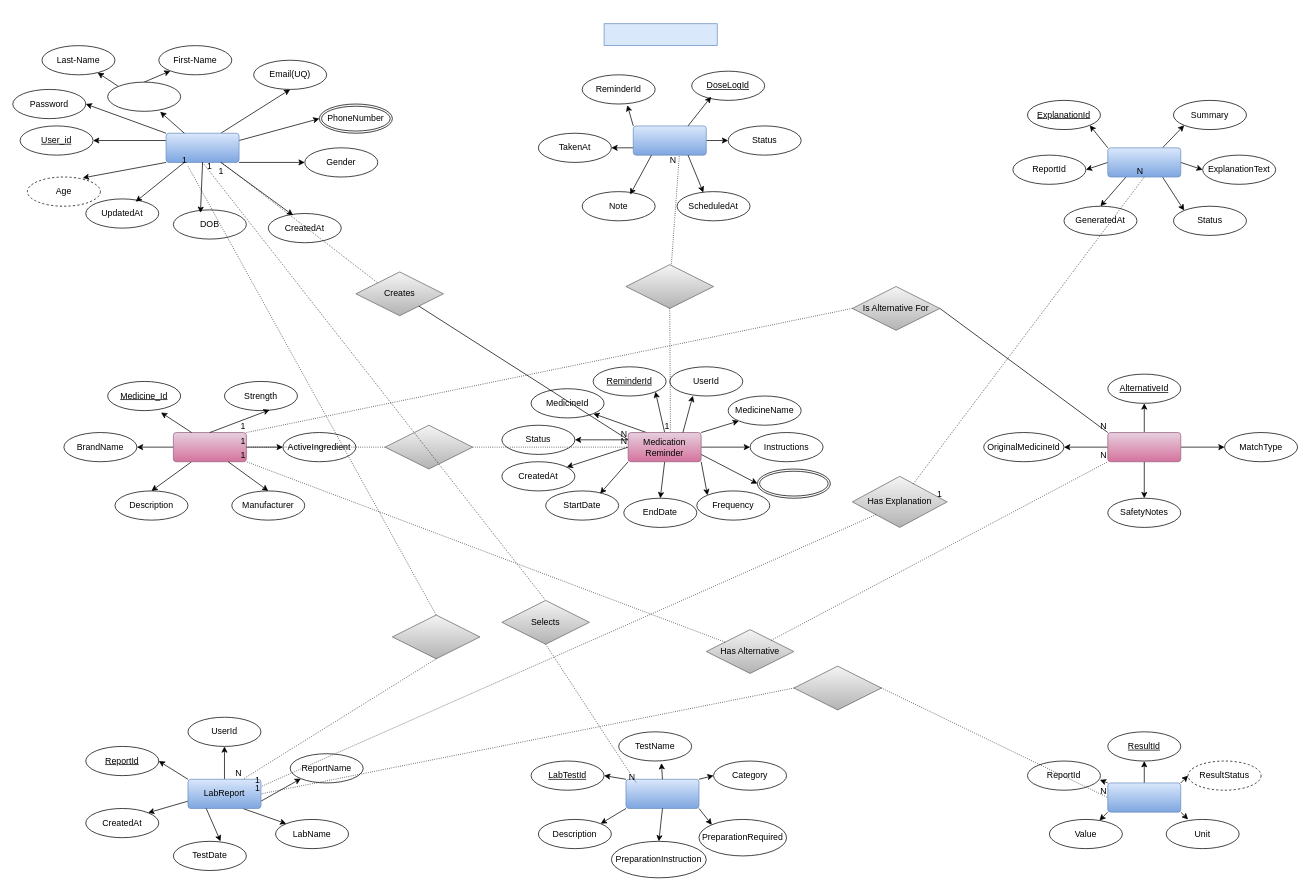
This 1310x891 diagram has some shape labels left out. Here are the shapes that lost their labels. From the top down, the centre of each, then its label:
(x=660, y=34): ERD Model
(x=144, y=96): Name
(x=202, y=147): User
(x=669, y=140): DoseLog
(x=1144, y=162): LabExplanation
(x=669, y=286): Has
(x=209, y=447): Medicine
(x=428, y=446): Used In
(x=1144, y=447): Medicine Alternative
(x=793, y=483): ReminderTimes
(x=436, y=636): Uploads
(x=837, y=687): Contains
(x=662, y=793): LabTest
(x=1144, y=797): LabResult
